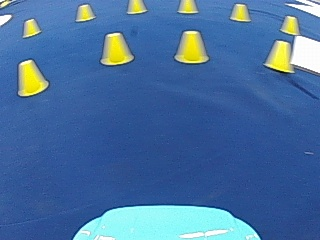cone: (16, 58, 48, 96), (174, 29, 208, 64), (100, 31, 133, 65), (263, 39, 293, 72), (229, 3, 250, 22), (280, 15, 299, 35), (22, 18, 40, 37), (76, 4, 94, 21), (178, 0, 197, 14), (127, 0, 146, 14)
